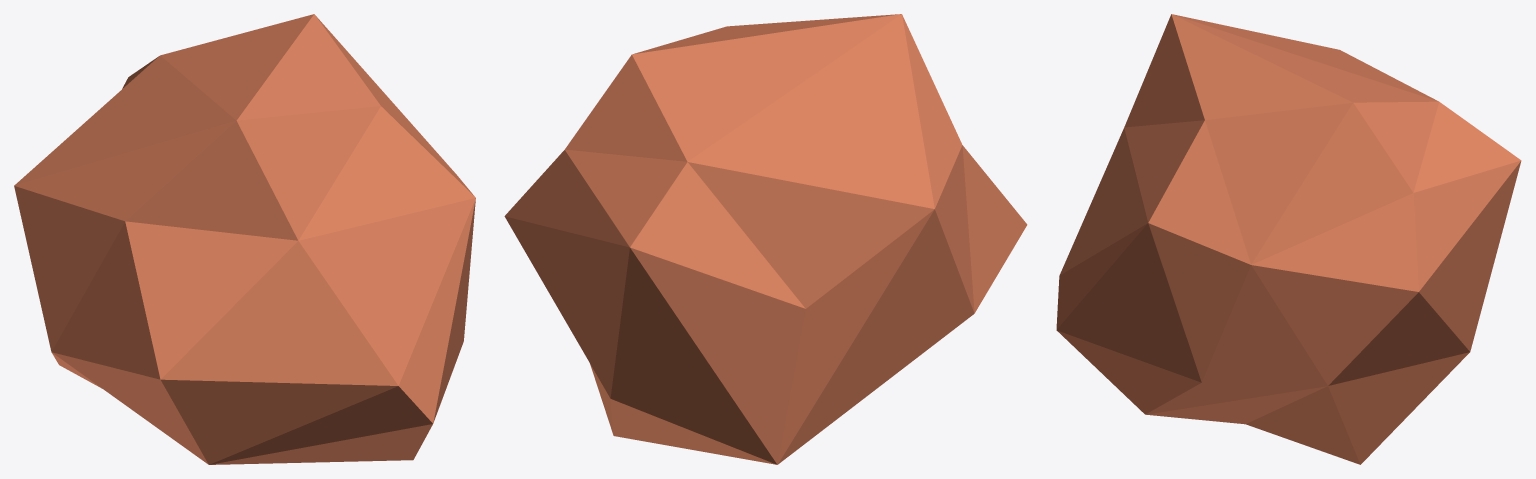
Rendered from ENV_Cannonball2_Placeholder2.fbx.
3 views of the same model, side by side, from view 1: azimuth 30°, elevation 25°; view 2: azimuth 150°, elevation 25°; view 3: azimuth 270°, elevation 25° (orthographic). The views are drawn at different scales.
Parts seen in each view (by area): view 1: Cannonball_2; view 2: Cannonball_2; view 3: Cannonball_2.
Boxes of the visible parts, x1,y1,x2,y2 form: Cannonball_2: [14, 14, 475, 464]; Cannonball_2: [504, 14, 1027, 464]; Cannonball_2: [1056, 14, 1521, 464].
Size of the model in its own units: 99.25 by 89.47 by 86.22.
